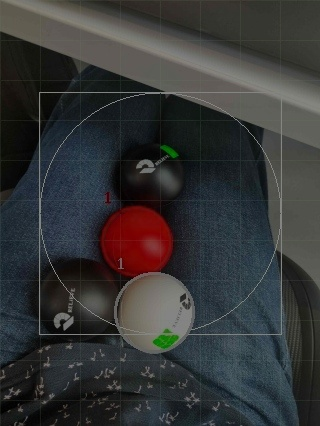Pelota blanca: (113, 270, 195, 355)
Pelota roja: (100, 204, 174, 278)
